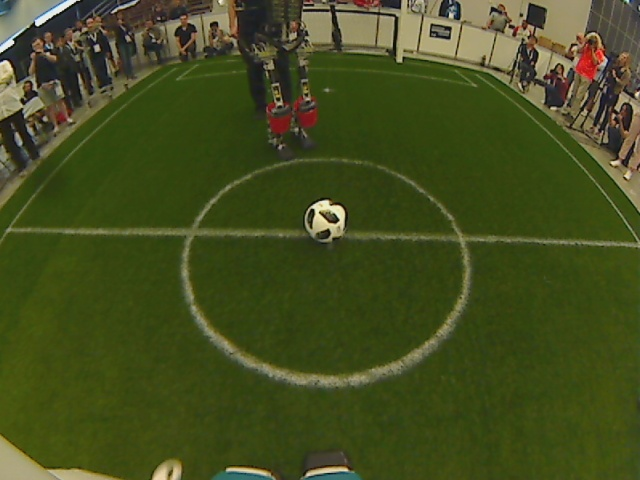ball: (300, 197, 350, 245)
